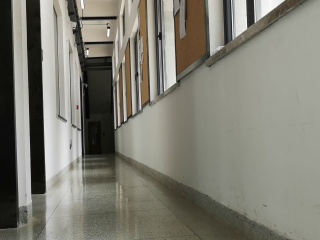room: (1, 3, 24, 226)
